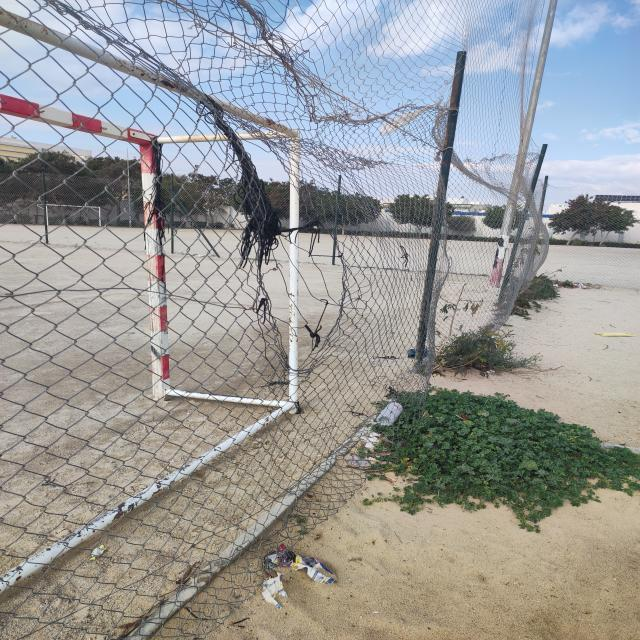fence line: (250, 233, 369, 341)
